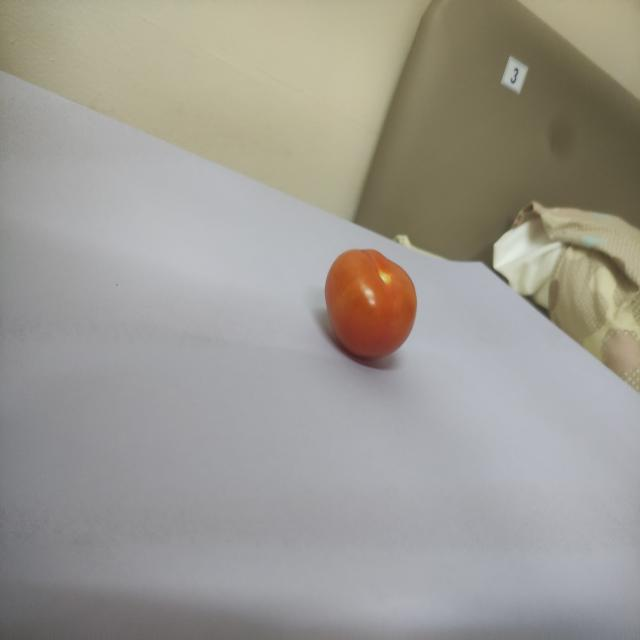sari: (317, 229, 422, 363)
